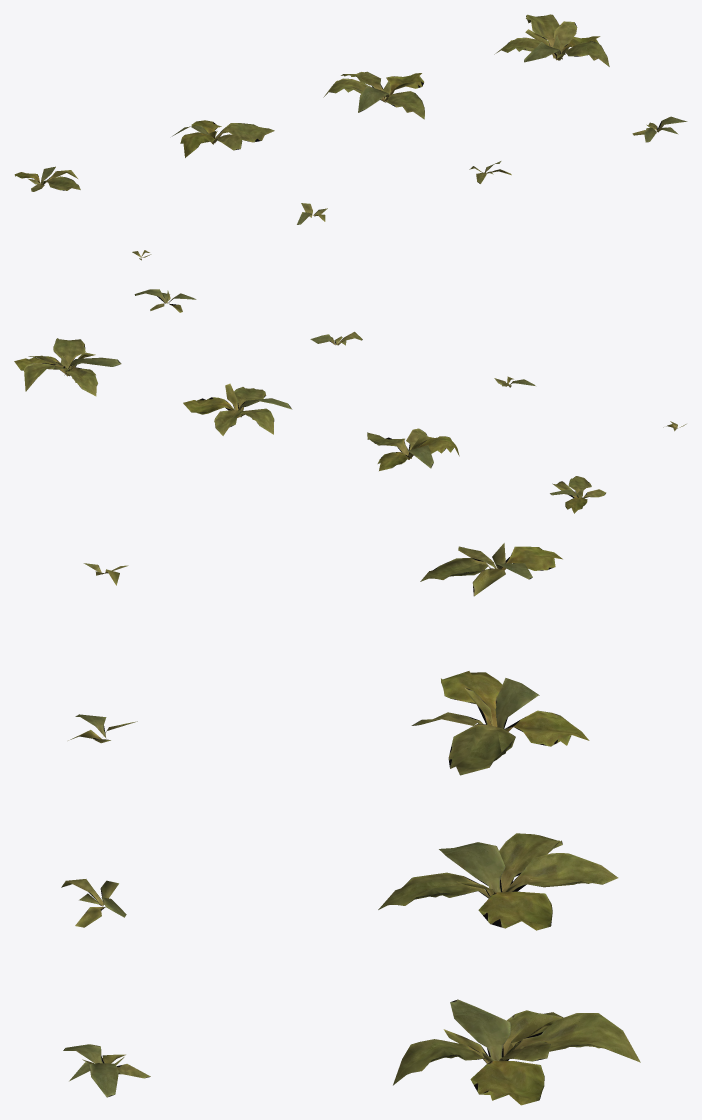
Rendered from crystalline_iceplant.glb.
3 views of the same model, one above another, from view 1: azimuth 30°, elevation 25°; view 2: azimuth 150°, elevation 25°; view 3: azimuth 270°, elevation 25° (orthographic). The views are drawn at different scales.
Parts seen in each view (by area): view 1: crystalline_iceplant_a_LOD0; view 2: crystalline_iceplant_a_LOD0; view 3: crystalline_iceplant_a_LOD0.
Part boxes in pixels (x1,y1,x2,y2): crystalline_iceplant_a_LOD0: (14,14,687,260); crystalline_iceplant_a_LOD0: (14,289,686,513); crystalline_iceplant_a_LOD0: (61,543,640,1105).
Size of the model in its own units: 1.69 by 0.0821 by 0.7368.
1 material, 1 textured.
